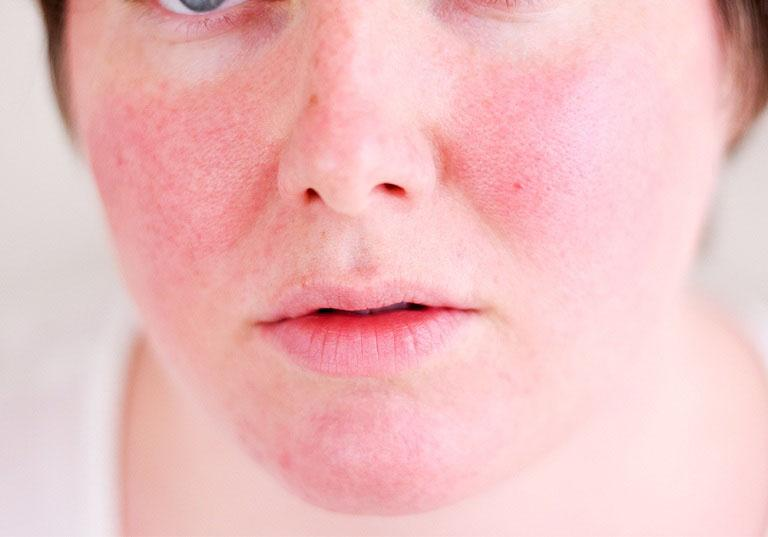Skin-Redness: (93, 68, 312, 255), (443, 36, 618, 242)
